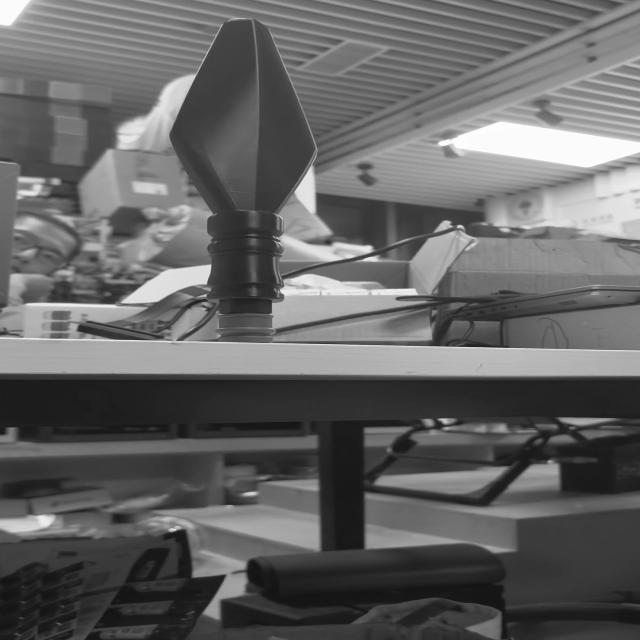base: (208, 307, 284, 347)
